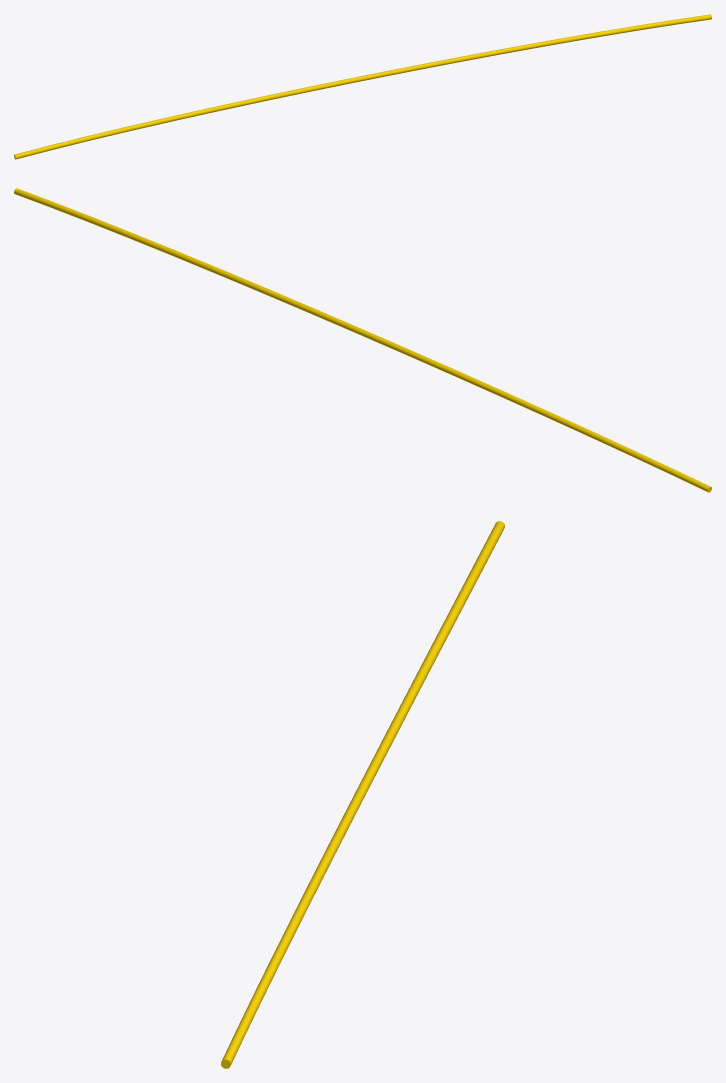
File: Event_420107950_track_30.fbx
3 renders of one model, top to bottom at view 1: azimuth 30°, elevation 25°; view 2: azimuth 150°, elevation 25°; view 3: azimuth 270°, elevation 25°, orthographic. The views are drawn at different scales.
Parts seen in each view (by area): view 1: Model; view 2: Model; view 3: Model.
Part boxes in pixels (<box>): Model: <box>14,14,711,159</box>; Model: <box>14,188,711,492</box>; Model: <box>221,521,504,1068</box>.
Size of the model in its own units: 5.67 by 0.3606 by 1.11.
